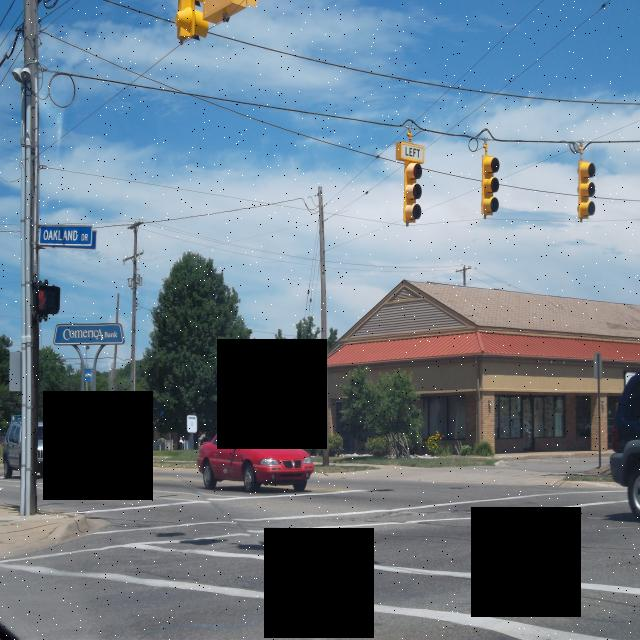regulatory: (88, 421, 94, 433)
warning: (251, 364, 279, 409)
